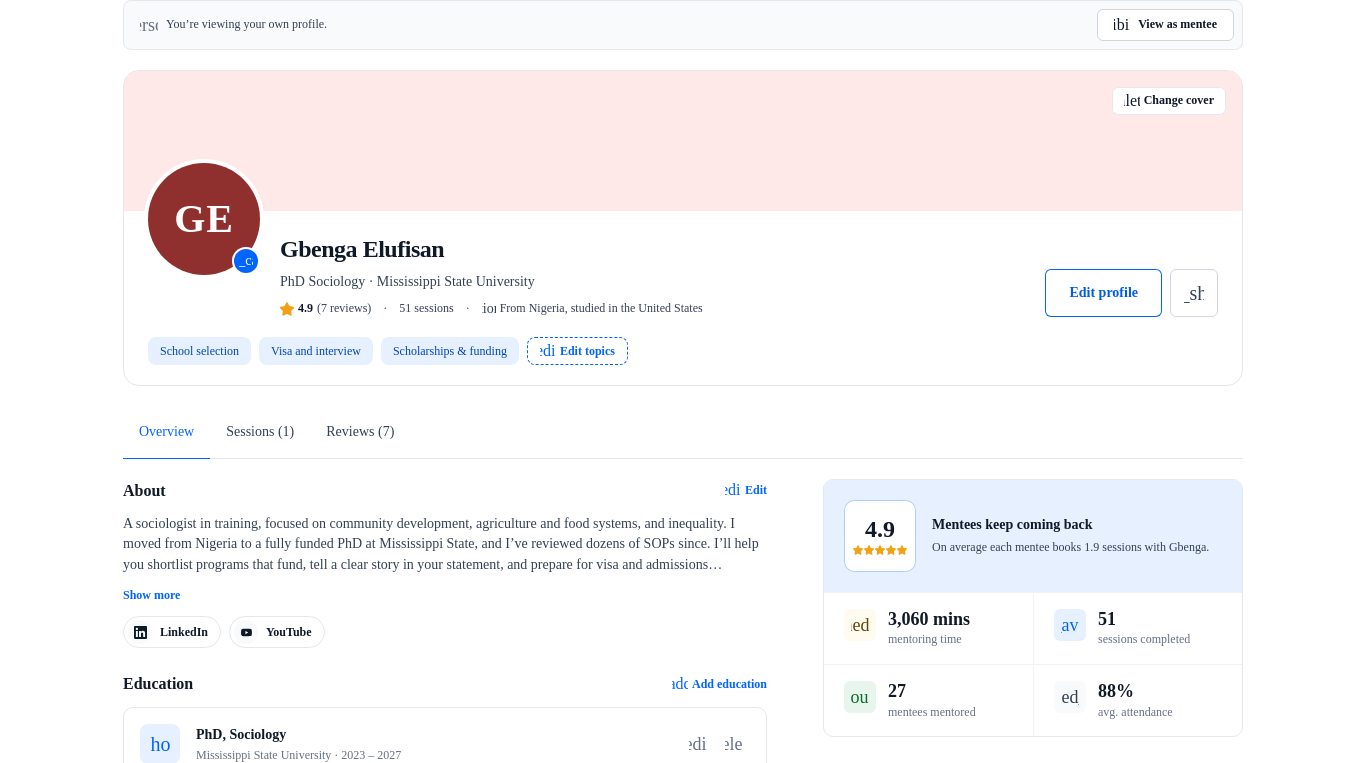
Test: MentorProfileScreen — "View as mentee" › shows the page as mentees see it: no edit controls, Book drawn but off
Check: the button "Edit profile" is shown, box [1045, 270, 1162, 318]
Check: the button "Book a session" is not shown
Click the button "visibility View as mentee" at [1166, 25], box [1097, 9, 1234, 41]
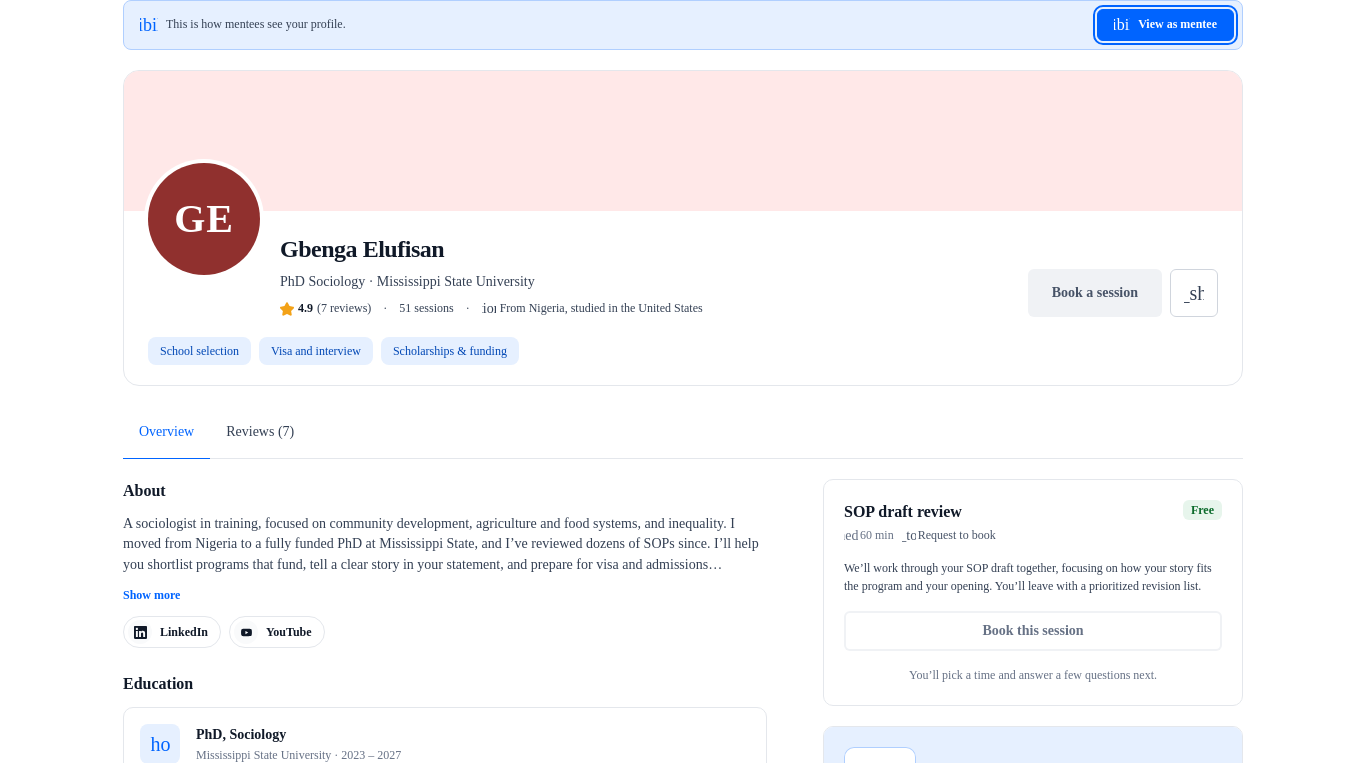
Check: the text "This is how mentees see your profile." is shown, box [166, 17, 346, 31]
Check: the button "Edit profile" is gone
Check: the button "Change cover" is gone
Click the button "visibility View as mentee" at [1166, 25], box [1097, 9, 1234, 41]
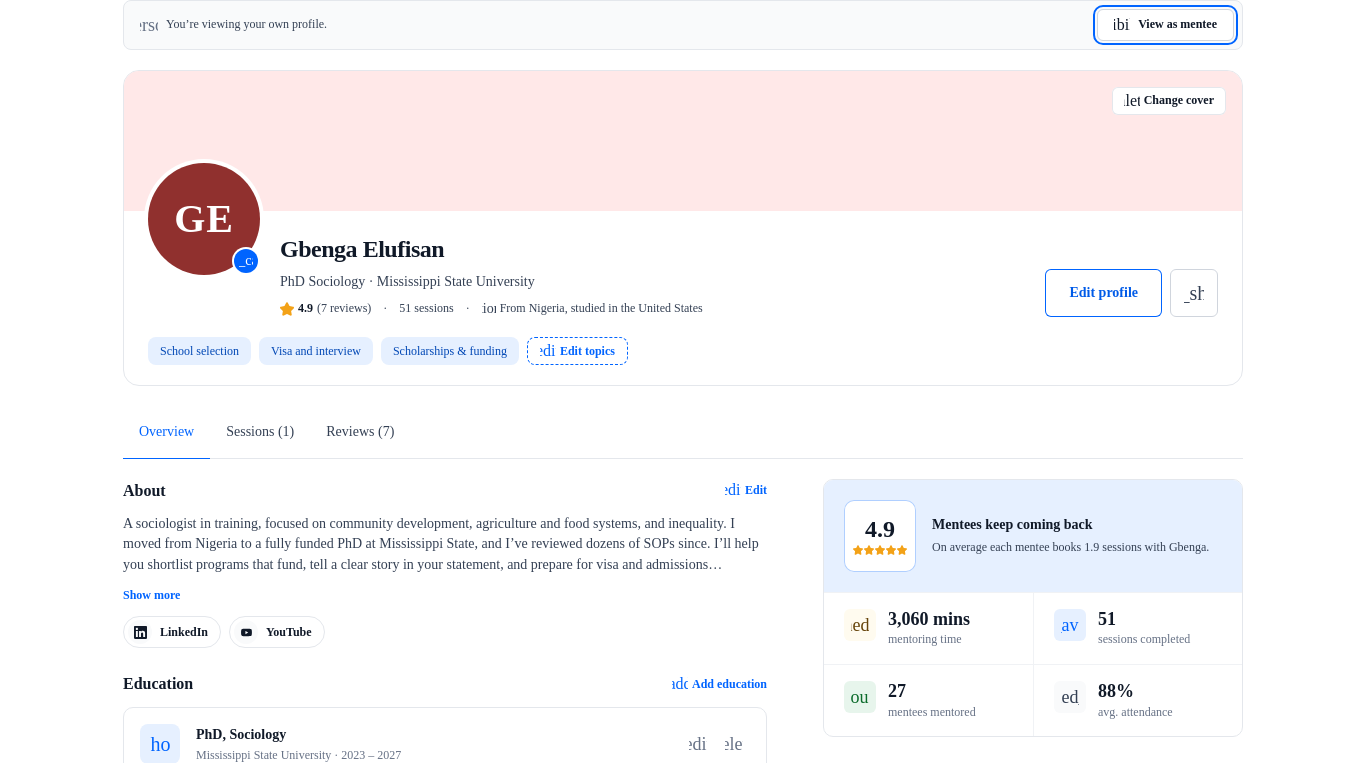
Check: the button "Edit profile" is shown, box [1045, 270, 1162, 318]
